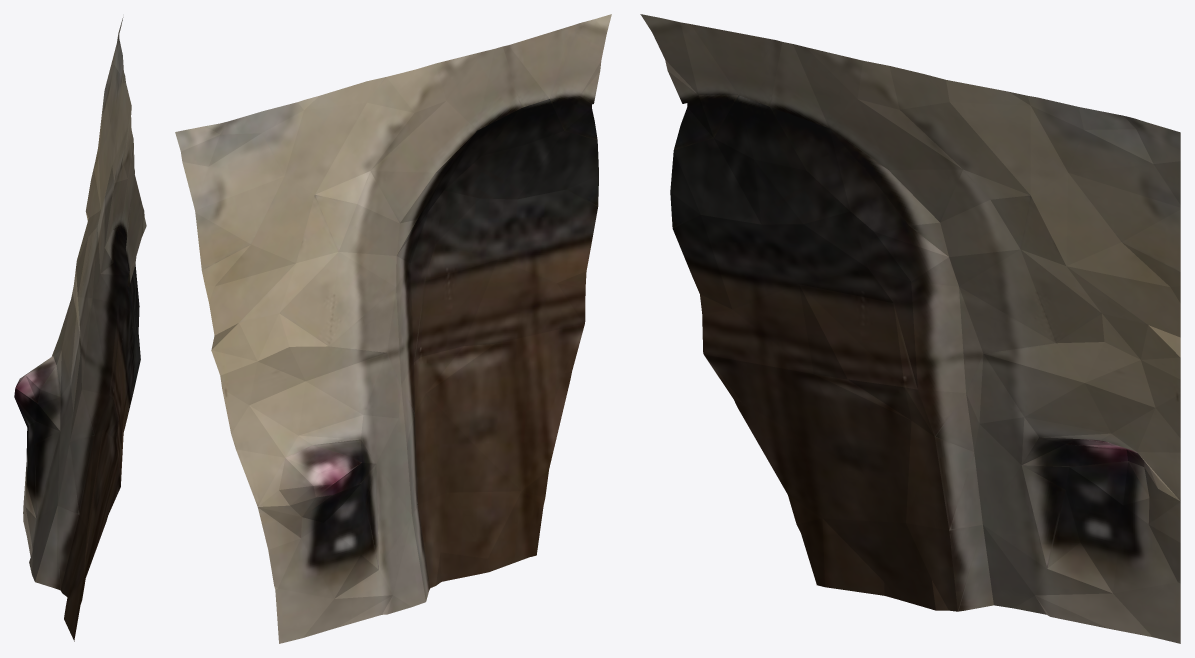
3 views of the same model, side by side, from view 1: azimuth 30°, elevation 25°; view 2: azimuth 150°, elevation 25°; view 3: azimuth 270°, elevation 25° (orthographic). The views are drawn at different scales.
Size of the model in its own units: 0.7446 by 1.67 by 1.44.
2 materials, 2 textured.
